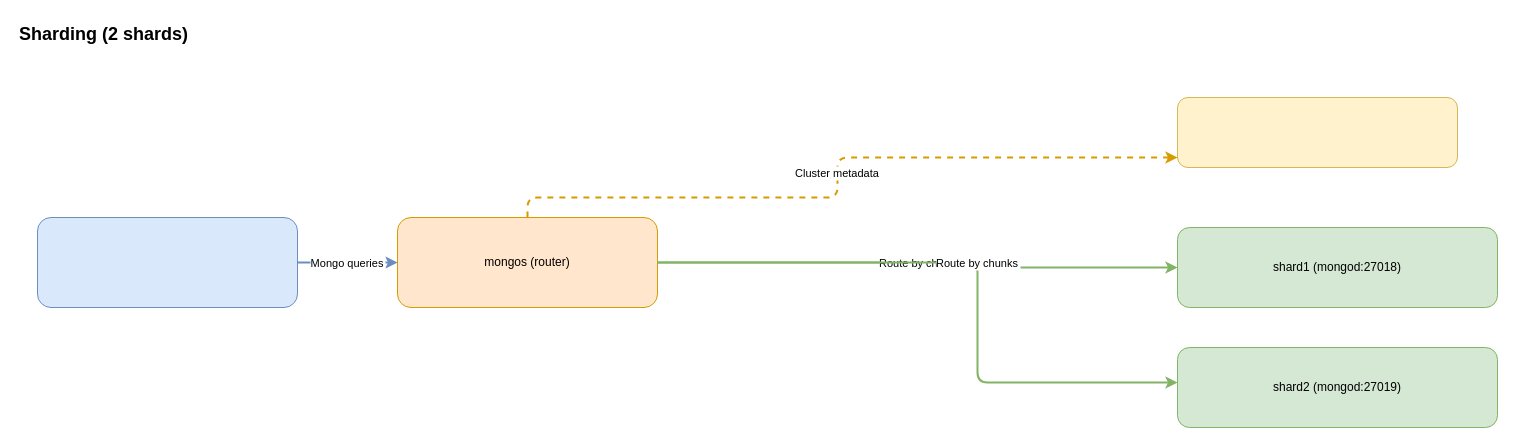
This 1515x445 diagram has some shape labels left out. The shapes that lost their labels are listed below. From the top down, each one's centre as x and y in pixels, then its label:
At (1317,132): "configSrv".
At (167,262): "pymongo-api".
